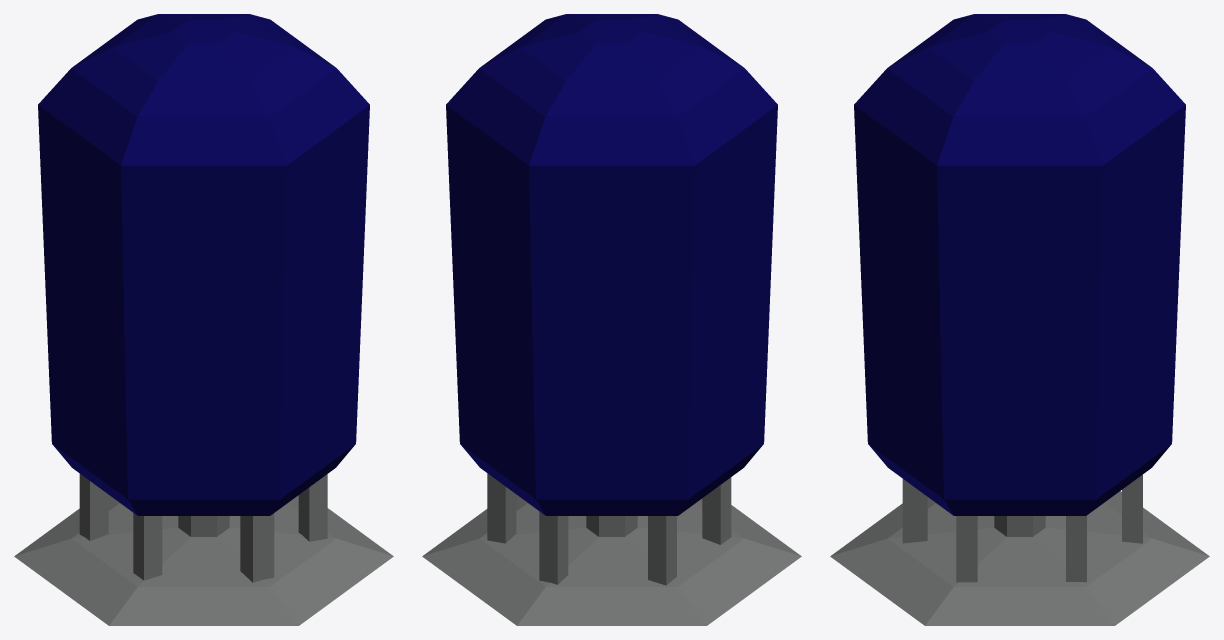
File: water_tank.glb
3 renders of one model, left to right at view 1: azimuth 30°, elevation 25°; view 2: azimuth 150°, elevation 25°; view 3: azimuth 270°, elevation 25°, orthographic.
Visible parts, largest first — view 1: Circle.001, Cube.006, Cube.011, Cube.007, Cube.010; view 2: Circle.001, Cube.009, Cube.010, Cube.008, Cube.011; view 3: Circle.001, Cube.007, Cube.006, Cube.008, Cube.009.
Part boxes in pixels (<box>): Circle.001: <box>14,14,393,625</box>; Cube.006: <box>240,513,274,582</box>; Cube.011: <box>133,513,162,580</box>; Cube.007: <box>298,474,327,541</box>; Cube.010: <box>79,474,108,540</box>; Circle.001: <box>422,14,801,625</box>; Cube.009: <box>539,511,568,584</box>; Cube.010: <box>648,516,676,585</box>; Cube.008: <box>487,473,516,543</box>; Cube.011: <box>702,477,731,544</box>; Circle.001: <box>830,14,1209,625</box>; Cube.007: <box>956,516,977,582</box>; Cube.006: <box>902,479,927,543</box>; Cube.008: <box>1066,515,1086,582</box>; Cube.009: <box>1122,474,1142,543</box>.
Size of the model in its own units: 0.866 by 1.52 by 1.
